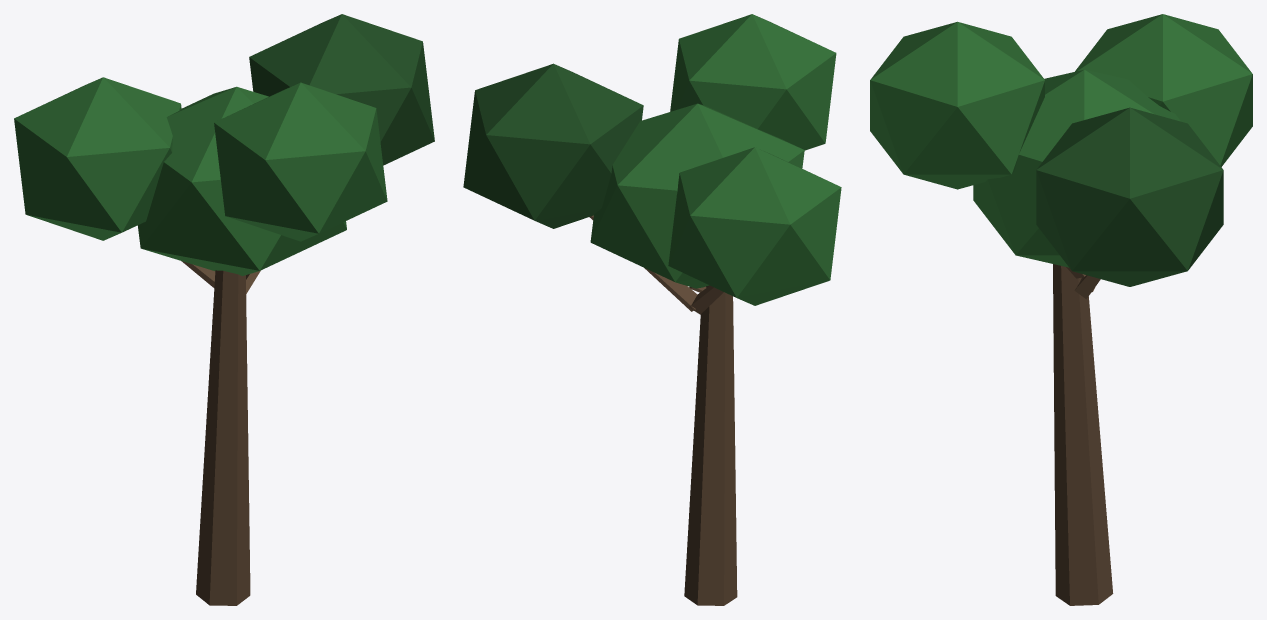
File: broad-v2-summer.glb
The picture shows the model from 3 angles, left to right: view 1: azimuth 30°, elevation 25°; view 2: azimuth 150°, elevation 25°; view 3: azimuth 270°, elevation 25°; orthographic projection. The views are drawn at different scales.
Visible parts, largest first — view 1: broad_v2; view 2: broad_v2; view 3: broad_v2.
Part boxes in pixels (x1,y1,x2,y2): broad_v2: [14, 14, 434, 605]; broad_v2: [463, 14, 841, 605]; broad_v2: [870, 14, 1252, 605].
Size of what is drawn, in the model's own units: 4.85 by 6.71 by 3.99.
